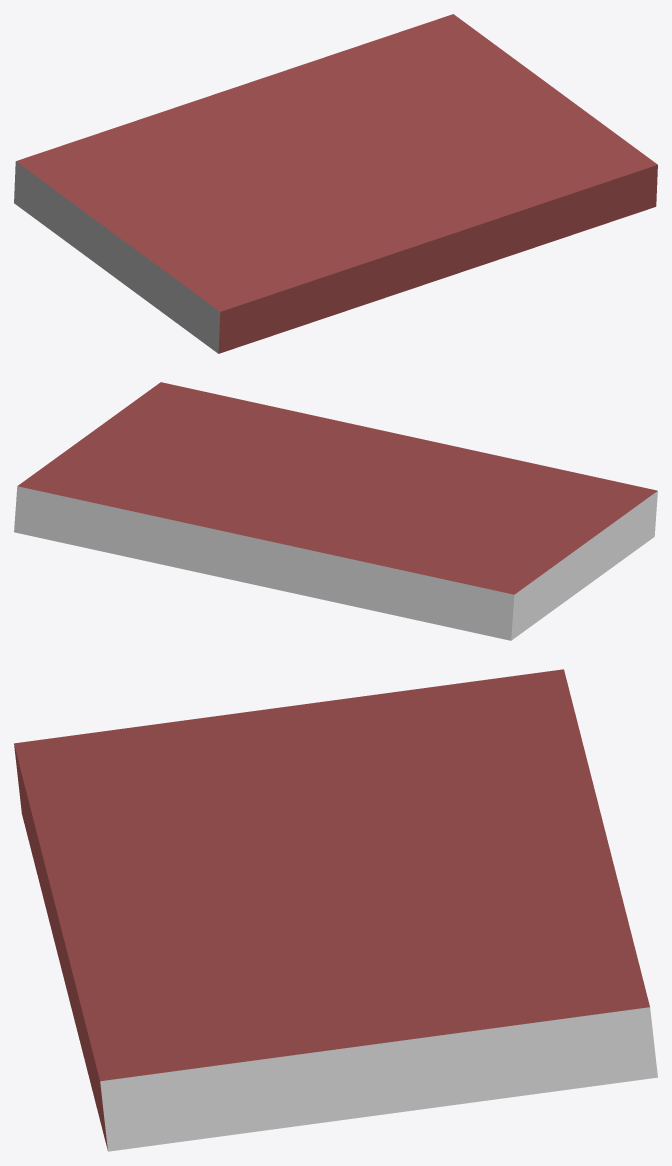
File: Book_01.glb
The picture shows the model from 3 angles, top to bottom: view 1: azimuth 30°, elevation 25°; view 2: azimuth 150°, elevation 25°; view 3: azimuth 270°, elevation 25°; orthographic projection. The views are drawn at different scales.
Parts seen in each view (by area): view 1: BookShelf04.001; view 2: BookShelf04.001; view 3: BookShelf04.001.
Part boxes in pixels (x1,y1,x2,y2): BookShelf04.001: (14,14,657,353); BookShelf04.001: (14,382,657,640); BookShelf04.001: (14,669,657,1151).
Size of the model in its own units: 1.83 by 0.3151 by 1.3.
Materials: 1 (1 with a texture image).
